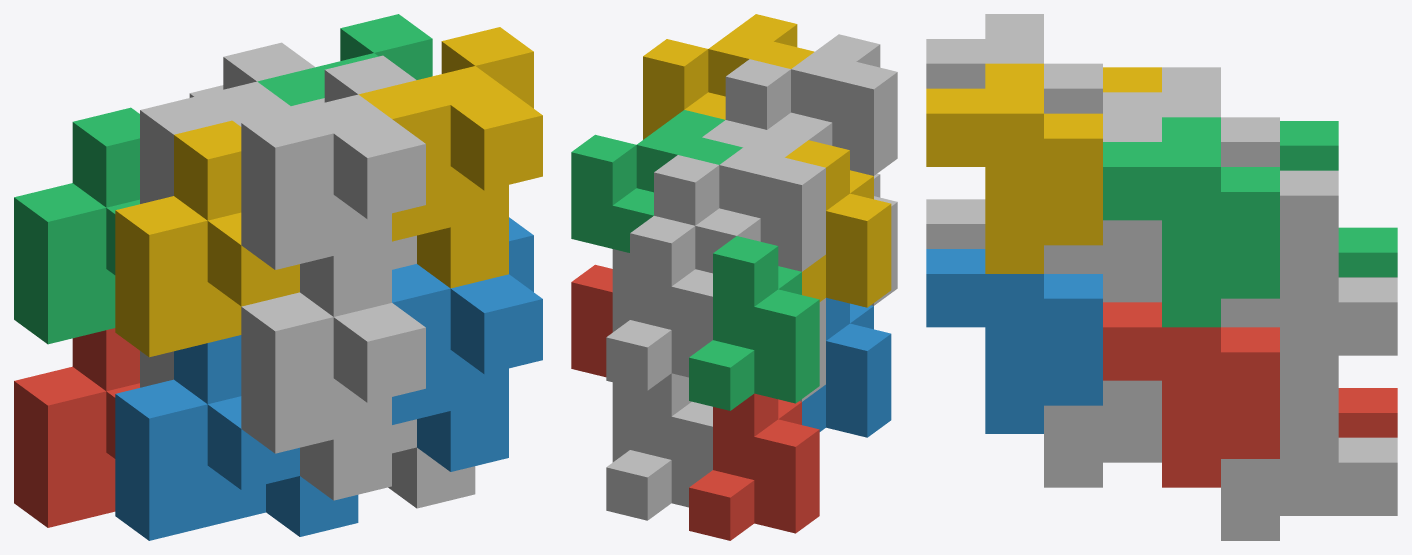
File: tiling.obj
3 renders of one model, left to right at view 1: azimuth 30°, elevation 25°; view 2: azimuth 150°, elevation 25°; view 3: azimuth 270°, elevation 25°, orthographic. The views are drawn at different scales.
Visible parts, largest first — view 1: copy_2_domain_4, copy_2_domain_2, copy_1_domain_2, copy_2_domain_8, copy_1_domain_4, copy_2_domain_6, copy_1_domain_3, copy_1_domain_1, copy_2_domain_3, copy_2_domain_7, copy_1_domain_6, copy_2_domain_1 (+1 smaller); view 2: copy_1_domain_3, copy_2_domain_3, copy_2_domain_4, copy_1_domain_1, copy_1_domain_7, copy_1_domain_5, copy_2_domain_7, copy_1_domain_4, copy_2_domain_8, copy_1_domain_2, copy_2_domain_5, copy_1_domain_8 (+2 smaller); view 3: copy_2_domain_8, copy_2_domain_7, copy_2_domain_5, copy_2_domain_6, copy_1_domain_5, copy_1_domain_7, copy_1_domain_6, copy_2_domain_4, copy_1_domain_8, copy_2_domain_3, copy_1_domain_3, copy_1_domain_1 (+2 smaller).
Boxes of the visible parts, box(x1,y1,x2,y2) form: copy_2_domain_4: box(241, 55, 425, 316); copy_2_domain_2: box(241, 292, 425, 500); copy_1_domain_2: box(115, 335, 358, 540); copy_2_domain_8: box(358, 27, 542, 288); copy_1_domain_4: box(115, 120, 299, 357); copy_2_domain_6: box(392, 217, 542, 471); copy_1_domain_3: box(14, 107, 139, 344); copy_1_domain_1: box(14, 328, 139, 527); copy_2_domain_3: box(140, 42, 314, 203); copy_2_domain_7: box(257, 14, 432, 105); copy_1_domain_6: box(388, 419, 475, 508); copy_2_domain_1: box(140, 351, 173, 387); copy_1_domain_3: box(689, 236, 819, 410); copy_2_domain_3: box(654, 130, 825, 273); copy_2_domain_4: box(725, 34, 897, 175); copy_1_domain_1: box(689, 393, 819, 540); copy_1_domain_7: box(606, 216, 712, 390); copy_1_domain_5: box(606, 373, 712, 520); copy_2_domain_7: box(571, 110, 742, 252); copy_1_domain_4: box(785, 140, 891, 307); copy_2_domain_8: box(643, 14, 814, 139); copy_1_domain_2: box(802, 297, 891, 437); copy_2_domain_5: box(571, 264, 612, 377); copy_1_domain_8: box(702, 120, 766, 147); copy_2_domain_8: box(926, 63, 1102, 273); copy_2_domain_7: box(1103, 117, 1279, 327); copy_2_domain_5: box(1103, 302, 1279, 487); copy_2_domain_6: box(926, 249, 1102, 433); copy_1_domain_5: box(1221, 355, 1397, 540); copy_1_domain_7: box(1221, 170, 1397, 355); copy_1_domain_6: box(1044, 380, 1161, 487); copy_2_domain_4: box(926, 14, 1102, 113); copy_1_domain_8: box(1044, 117, 1161, 302); copy_2_domain_3: box(1103, 67, 1279, 166); copy_1_domain_3: box(1280, 121, 1397, 277); copy_1_domain_1: box(1338, 388, 1397, 437).
Bounding box in the file's own units: 6 × 8 × 8.
